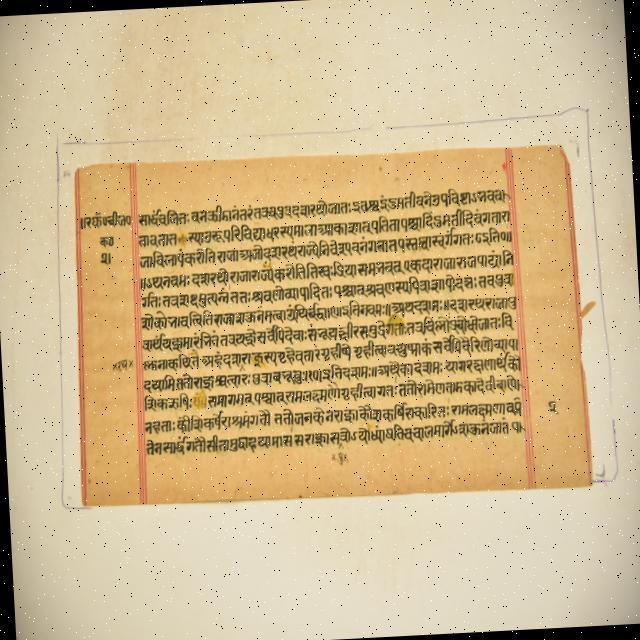text_paragraph: (73, 142, 592, 507)
